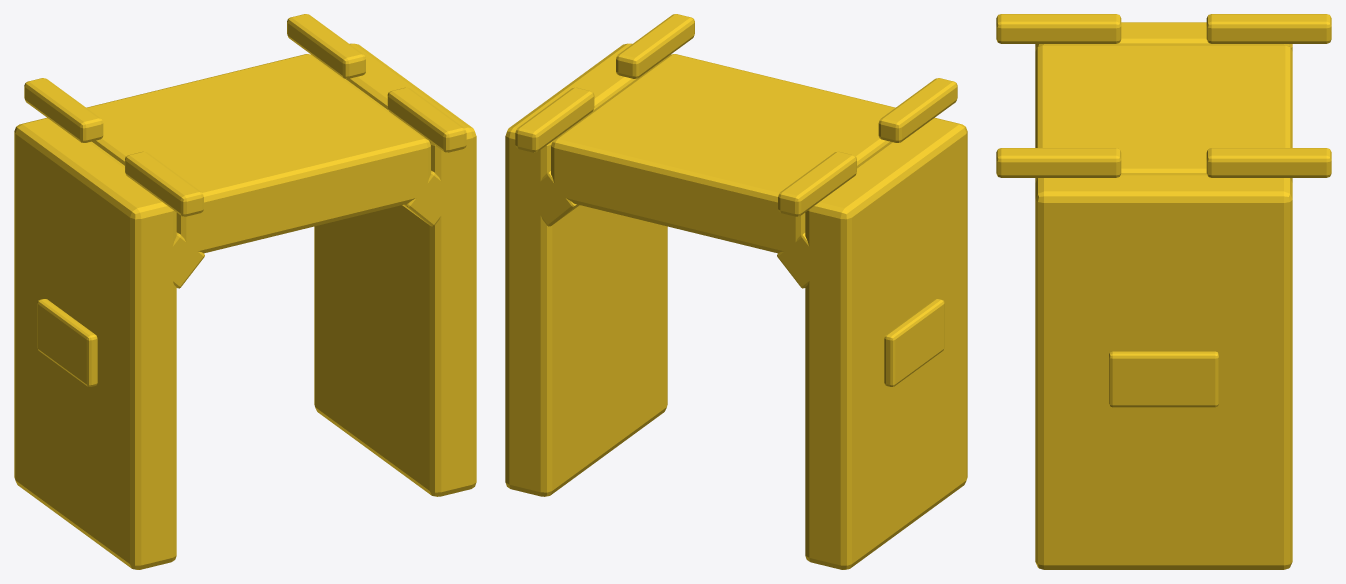
Rendered from Bridge_Pier_Block.fbx.
3 renders of one model, left to right at view 1: azimuth 30°, elevation 25°; view 2: azimuth 150°, elevation 25°; view 3: azimuth 270°, elevation 25°, orthographic. The views are drawn at different scales.
Visible parts, largest first — view 1: Bridge_Pier_Block mesh; view 2: Bridge_Pier_Block mesh; view 3: Bridge_Pier_Block mesh.
Boxes of the visible parts, left/top/right/bottom form: Bridge_Pier_Block mesh: left=14, top=14, right=476, bottom=569; Bridge_Pier_Block mesh: left=505, top=14, right=967, bottom=569; Bridge_Pier_Block mesh: left=996, top=14, right=1331, bottom=569.
Bounding box in the file's own units: 177 × 176 × 134.
